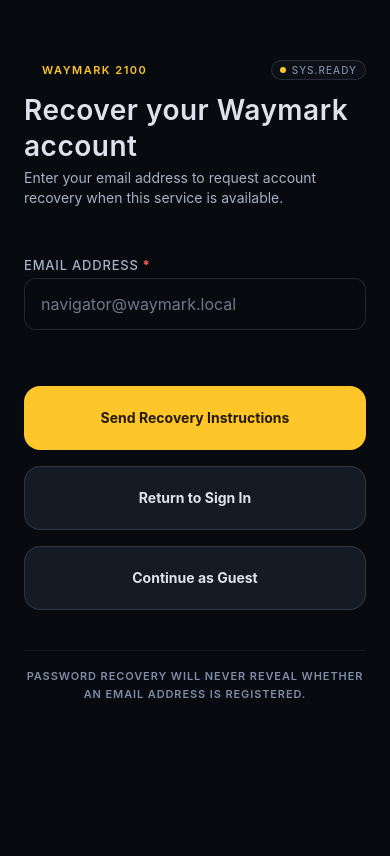
Test case: Feature 04.2.3 — Password Recovery Screen & Flow › TC-04.2.3-15: validates that email address is required for recovery
Click the button with test id "btn-submit-forgot-password" at coordinates (195, 418), box x1=24 y1=386 x2=366 y2=450
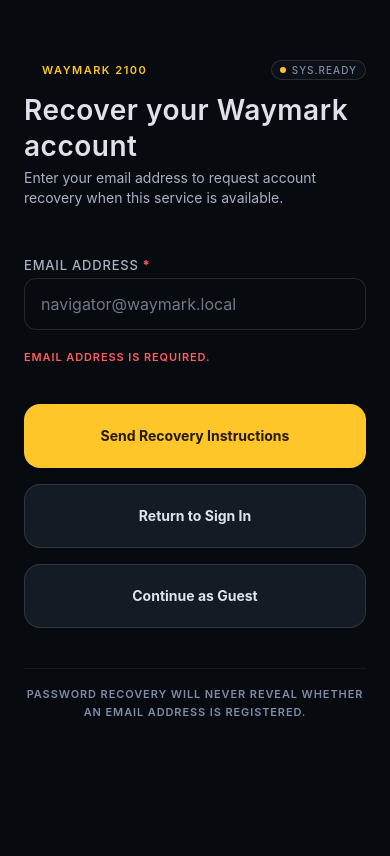
Expected: the text "Email address is required." is shown, x1=24 y1=350 x2=210 y2=364
